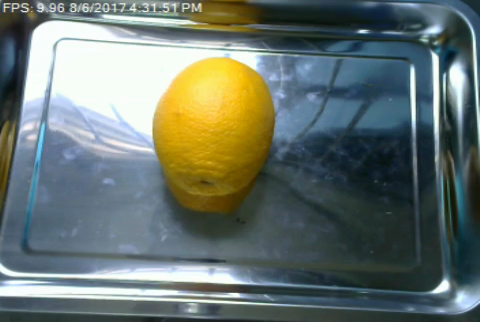Orange: (151, 56, 274, 197)
